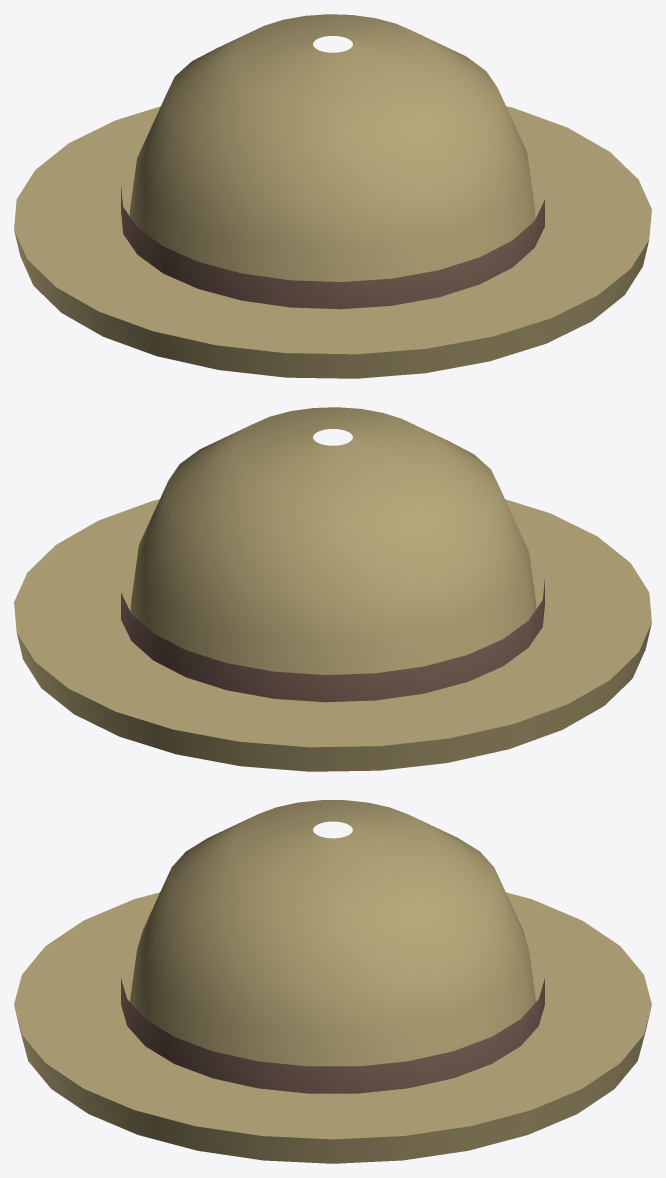
Rendered from straw.glb.
3 views of the same model, one above another, from view 1: azimuth 30°, elevation 25°; view 2: azimuth 150°, elevation 25°; view 3: azimuth 270°, elevation 25° (orthographic).
Visible parts, largest first — view 1: hat-straw; view 2: hat-straw; view 3: hat-straw.
Part boxes in pixels (left/top/right/bottom): hat-straw: left=14, top=14, right=651, bottom=378; hat-straw: left=14, top=407, right=651, bottom=771; hat-straw: left=14, top=800, right=651, bottom=1163.
Size of the model in its own units: 0.192 by 0.067 by 0.192.
